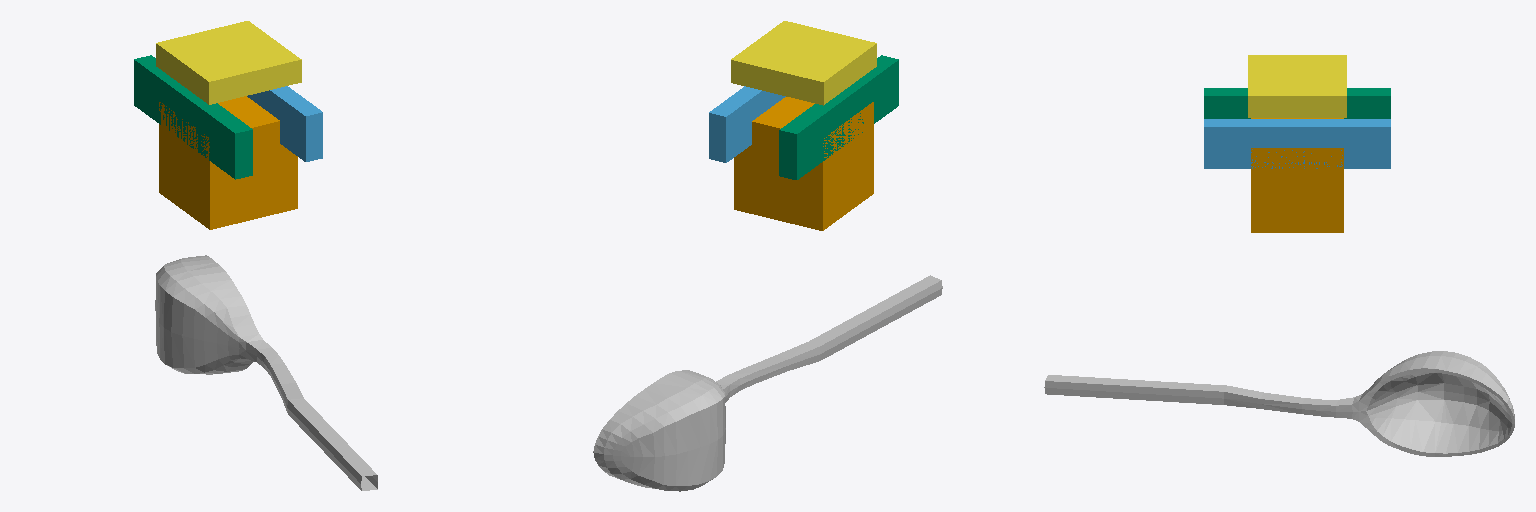
The robot description file, URDF, robot "spoon":
<?xml version="1.0" ?>
<robot name="spoon">
    <link name="cube_spoon">
        <visual>
            <origin xyz="0.0 0.0 0.0" rpy="0.0 0.0 0.0"/>
            <geometry>
                <box size="0.04 0.04 0.04"/>
            </geometry>    
        </visual>
        <collision>
            <origin xyz="0.0 0.0 0.0" rpy="0.0 0.0 0.0"/>
            <geometry>
                <box size="0.04 0.04 0.04"/>
            </geometry>    
        </collision>
    </link>
    <link name="fix1">
        <visual>
            <origin xyz="0.016 0 0.02" rpy="0.0 0.0 0.0"/>
            <geometry>
                <box size="0.008 0.08 0.02"/>
            </geometry> 
        </visual>
        <collision>
            <origin xyz="0.016 0 0.02" rpy="0.0 0.0 0.0"/>
            <geometry>
                <box size="0.005 0.08 0.02"/>
            </geometry>  
        </collision>
    </link>
    <joint name="joint_name1" type="fixed">
        <parent link="fix1"/>
        <child link="cube_spoon"/>
    </joint>
    <link name="fix2">
        <visual>
            <origin xyz="-0.016 0 0.02" rpy="0.0 0.0 0.0"/>
            <geometry>
                <box size="0.008 0.08 0.02"/>
            </geometry> 
        </visual>
        <collision>
            <origin xyz="-0.016 0 0.02" rpy="0.0 0.0 0.0"/>
            <geometry>
                <box size="0.008 0.08 0.02"/>
            </geometry>     
        </collision>
    </link>
    <joint name="joint_name2" type="fixed">
        <parent link="cube_spoon"/>
        <child link="fix2"/>
    </joint>

    <link name="fix3">
        <visual>
            <origin xyz="0 0 0.04" rpy="0.0 0.0 0.0"/>
            <geometry>
                <box size="0.042 0.042 0.01"/>
            </geometry> 
        </visual>
        <collision>
            <origin xyz="0 0 0.04" rpy="0.0 0.0 0.0"/>
            <geometry>
                <box size="0.042 0.042 0.01"/>
            </geometry>     
        </collision>
    </link>
    <joint name="joint_name3" type="fixed">
        <parent link="cube_spoon"/>
        <child link="fix3"/>
    </joint>

    
    <link name="spoon">
        <visual>
            <origin xyz="0 0 -0.1" rpy="3.14 0 0"/>
            <geometry>
                <mesh filename="spoon.dae"/>
            </geometry>
        </visual>
        <collision>
            <origin xyz="0 0 -0.1" rpy="3.14 0 0"/>
            <geometry>
                <mesh filename="spoon.dae"/>
            </geometry>
        </collision>
        <inertial>
            <mass value="0.5"/> 
            <inertia ixx="0.0001" ixy="0.0" ixz="0.0" iyy="0.0001" iyz="0.0" izz="0.0001"/>
        </inertial>
    </link>
    <joint name="joint_name" type="fixed">
        <parent link="cube_spoon"/>
        <child link="spoon"/>
    </joint>
    
</robot>

--- Render facts (derived) ---
Views: 3 orthographic renders of the robot side by side, from view 1: azimuth 30°, elevation 25°; view 2: azimuth 150°, elevation 25°; view 3: azimuth 270°, elevation 25°.
Model spoon with 5 links and 4 joints (4 fixed), rooted at fix1, posed every joint at zero.
Links seen in each view (by area): view 1: spoon, cube_spoon, fix3, fix2, fix1; view 2: spoon, cube_spoon, fix3, fix2, fix1; view 3: spoon, cube_spoon, fix1, fix3, fix2.
Boxes of the visible links, box(x1,y1,x2,y2) form: spoon: box(155, 255, 377, 490); cube_spoon: box(159, 96, 297, 229); fix3: box(156, 21, 301, 104); fix2: box(134, 55, 252, 179); fix1: box(247, 86, 322, 161); spoon: box(593, 275, 942, 491); cube_spoon: box(734, 97, 873, 230); fix3: box(731, 21, 876, 105); fix2: box(779, 55, 898, 179); fix1: box(709, 86, 785, 162); spoon: box(1044, 351, 1514, 456); cube_spoon: box(1251, 118, 1343, 232); fix1: box(1204, 119, 1390, 168); fix3: box(1248, 55, 1346, 117); fix2: box(1204, 88, 1390, 118).
Size in the robot's own frame: 0.0624 by 0.2015 by 0.166 metres.
1 mesh visuals loaded from 1 distinct referenced files (1 Collada DAE).